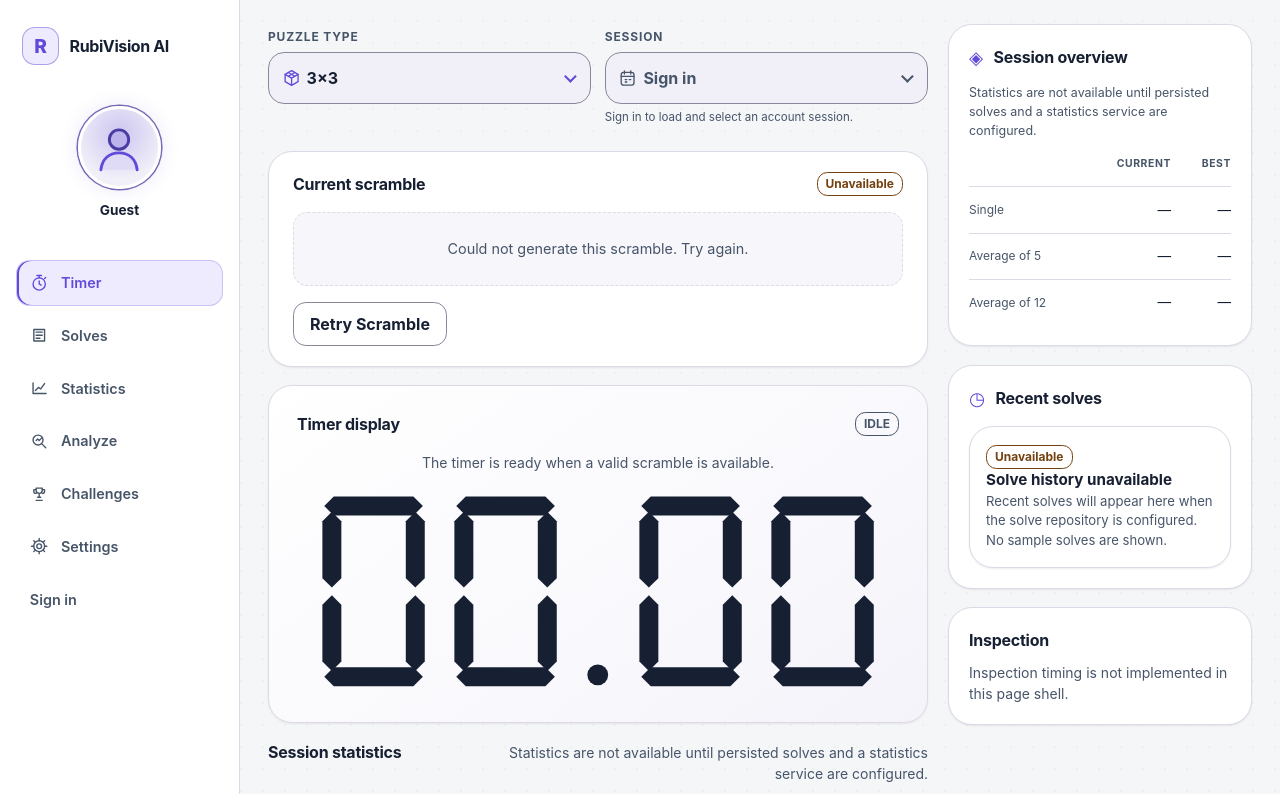
Test: App routing › shows a generation failure and allows a successful retry
The width and height of the screenshot is (1280, 794).
expect the message "Unavailable" is shown: met, box 816,172 -> 903,196
expect the message "Could not generate this scramble. Try again." is shown: met, box 293,212 -> 903,286
Click the button "Retry Scramble" at (370, 324), box 293,302 -> 447,346
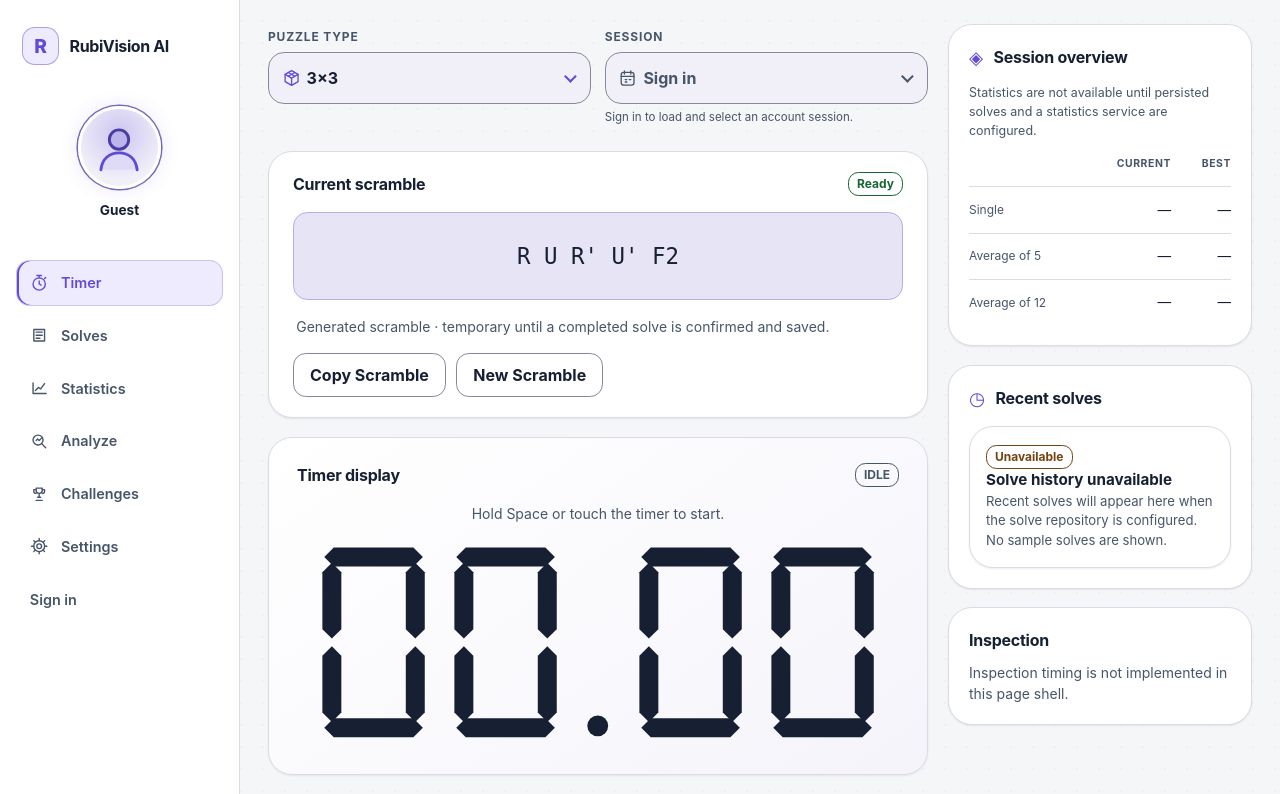
expect the text "R U R' U' F2" is shown: met, box 293,212 -> 903,300
